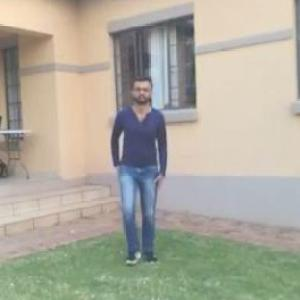follow: (106, 67, 168, 276)
